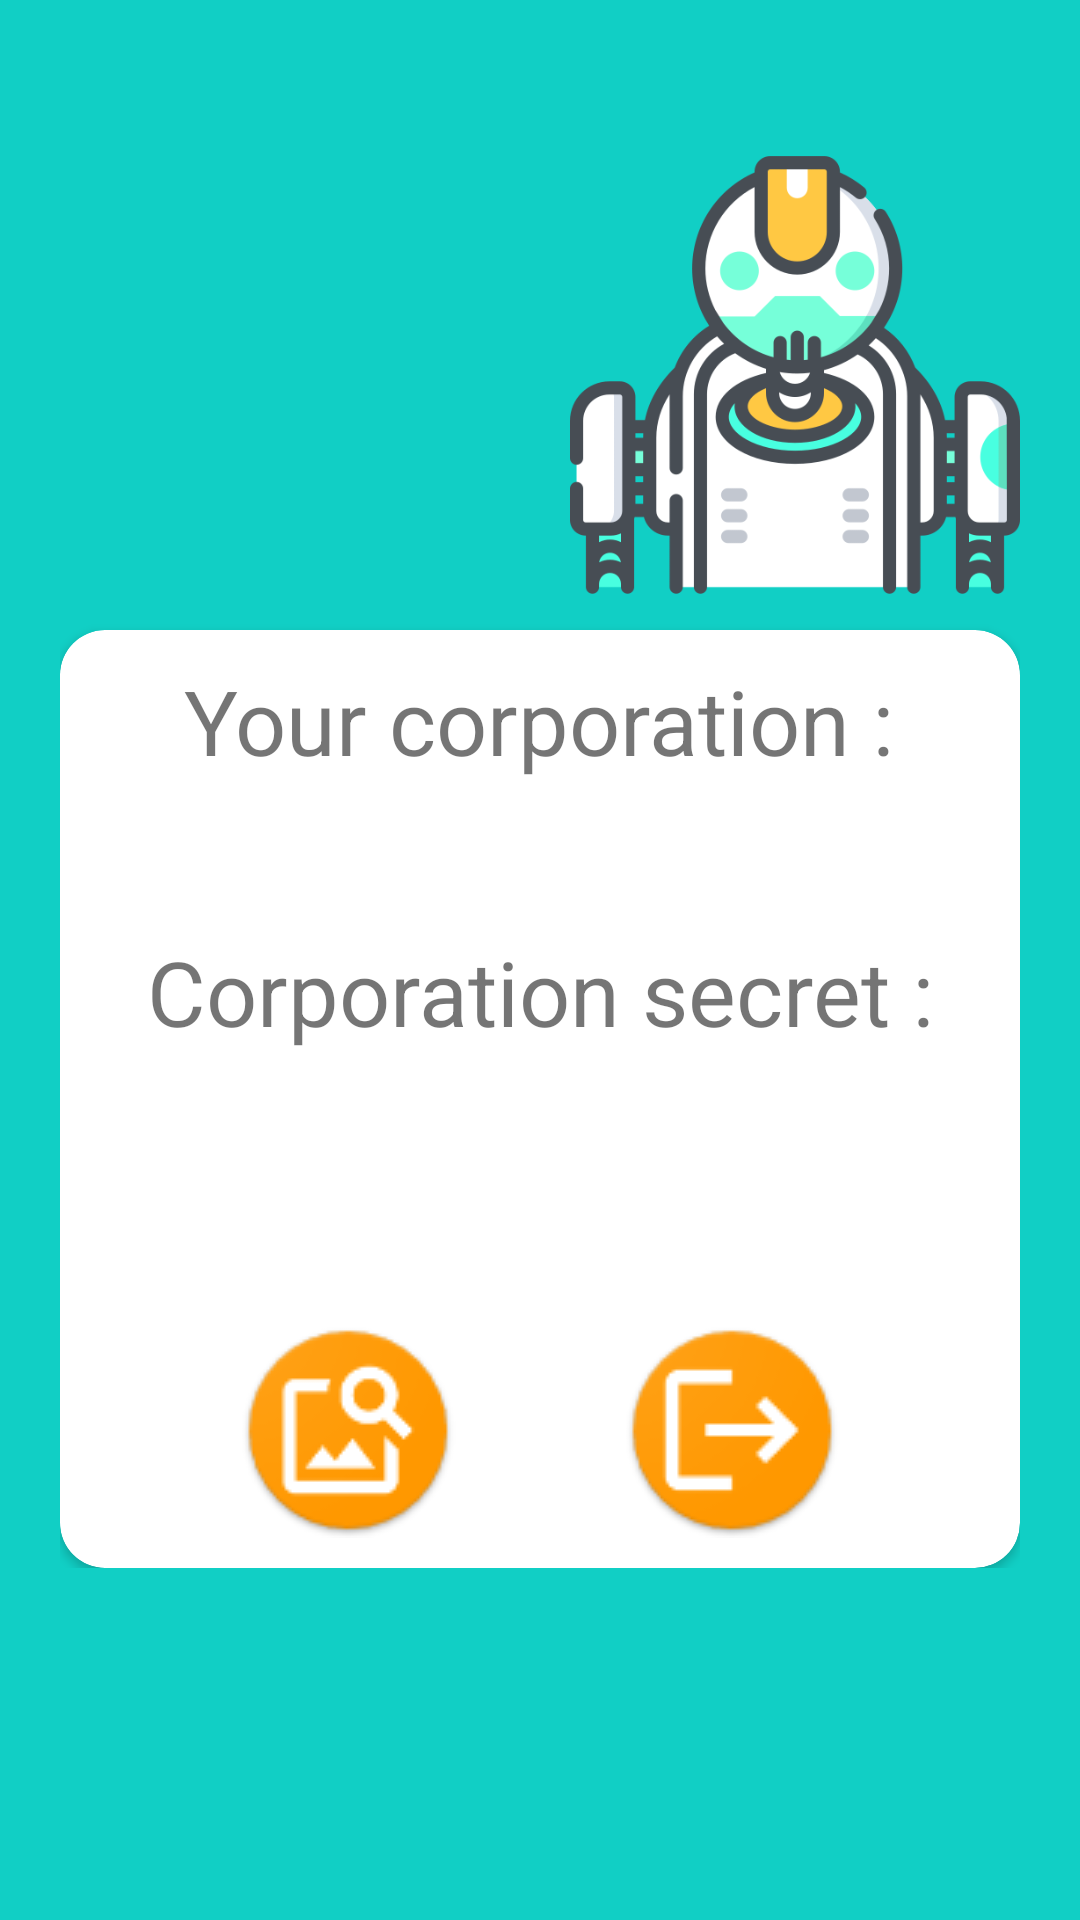

Screen size 1080x1920. Icon name, then its center in pixels as point (x, y):
choseqr: point (348, 1431)
